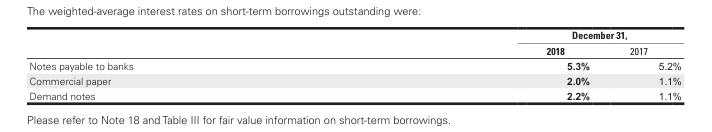table: (28, 28, 680, 101)
table column: (28, 28, 339, 101), (339, 28, 609, 101), (609, 28, 680, 101)
table column header: (28, 28, 680, 57)
table row: (28, 42, 680, 57), (28, 57, 680, 72), (28, 72, 680, 87), (28, 28, 680, 42), (28, 87, 680, 101)
table spanning cell: (339, 28, 680, 42)
